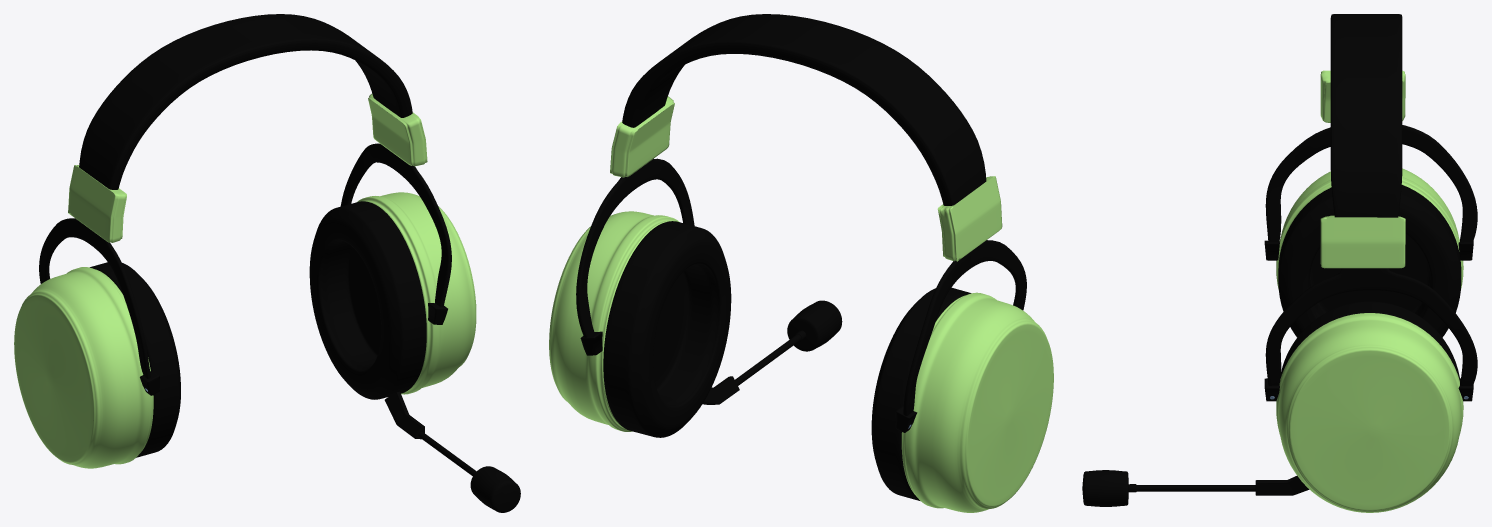
The model's file is Telcabeza.fbx.
The picture shows the model from 3 angles, left to right: view 1: azimuth 30°, elevation 25°; view 2: azimuth 150°, elevation 25°; view 3: azimuth 270°, elevation 25°; orthographic projection. The views are drawn at different scales.
Parts seen in each view (by area): view 1: hyperx.016; view 2: hyperx.016; view 3: hyperx.016.
Part boxes in pixels (left/top/right/bottom): hyperx.016: left=14, top=14, right=520, bottom=512; hyperx.016: left=549, top=14, right=1053, bottom=512; hyperx.016: left=1082, top=14, right=1477, bottom=512.
Size of the model in its own units: 3182 by 3200 by 2800.
